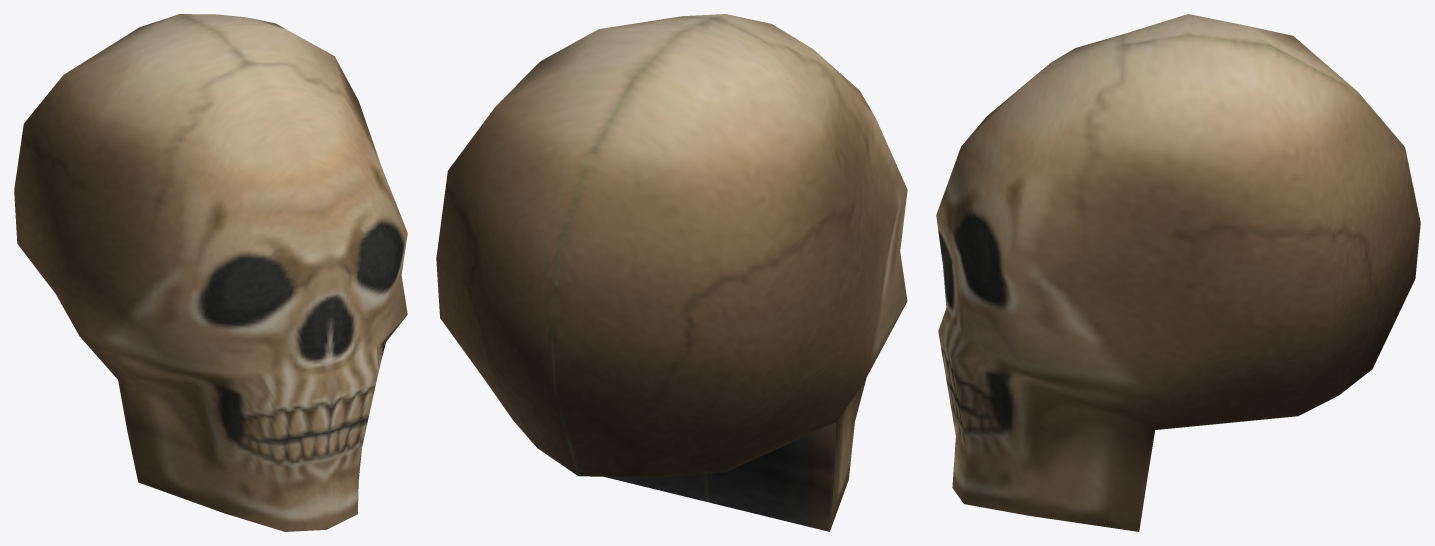
File: skull.obj
3 views of the same model, side by side, from view 1: azimuth 30°, elevation 25°; view 2: azimuth 150°, elevation 25°; view 3: azimuth 270°, elevation 25° (orthographic). The views are drawn at different scales.
Visible parts, largest first — view 1: Skull; view 2: Skull; view 3: Skull.
Part boxes in pixels (x1,y1,x2,y2): Skull: (14, 14, 407, 531); Skull: (436, 14, 907, 531); Skull: (936, 14, 1420, 531).
Bounding box in the file's own units: 2.74 × 3.62 × 3.5.
1 material, 1 textured.
